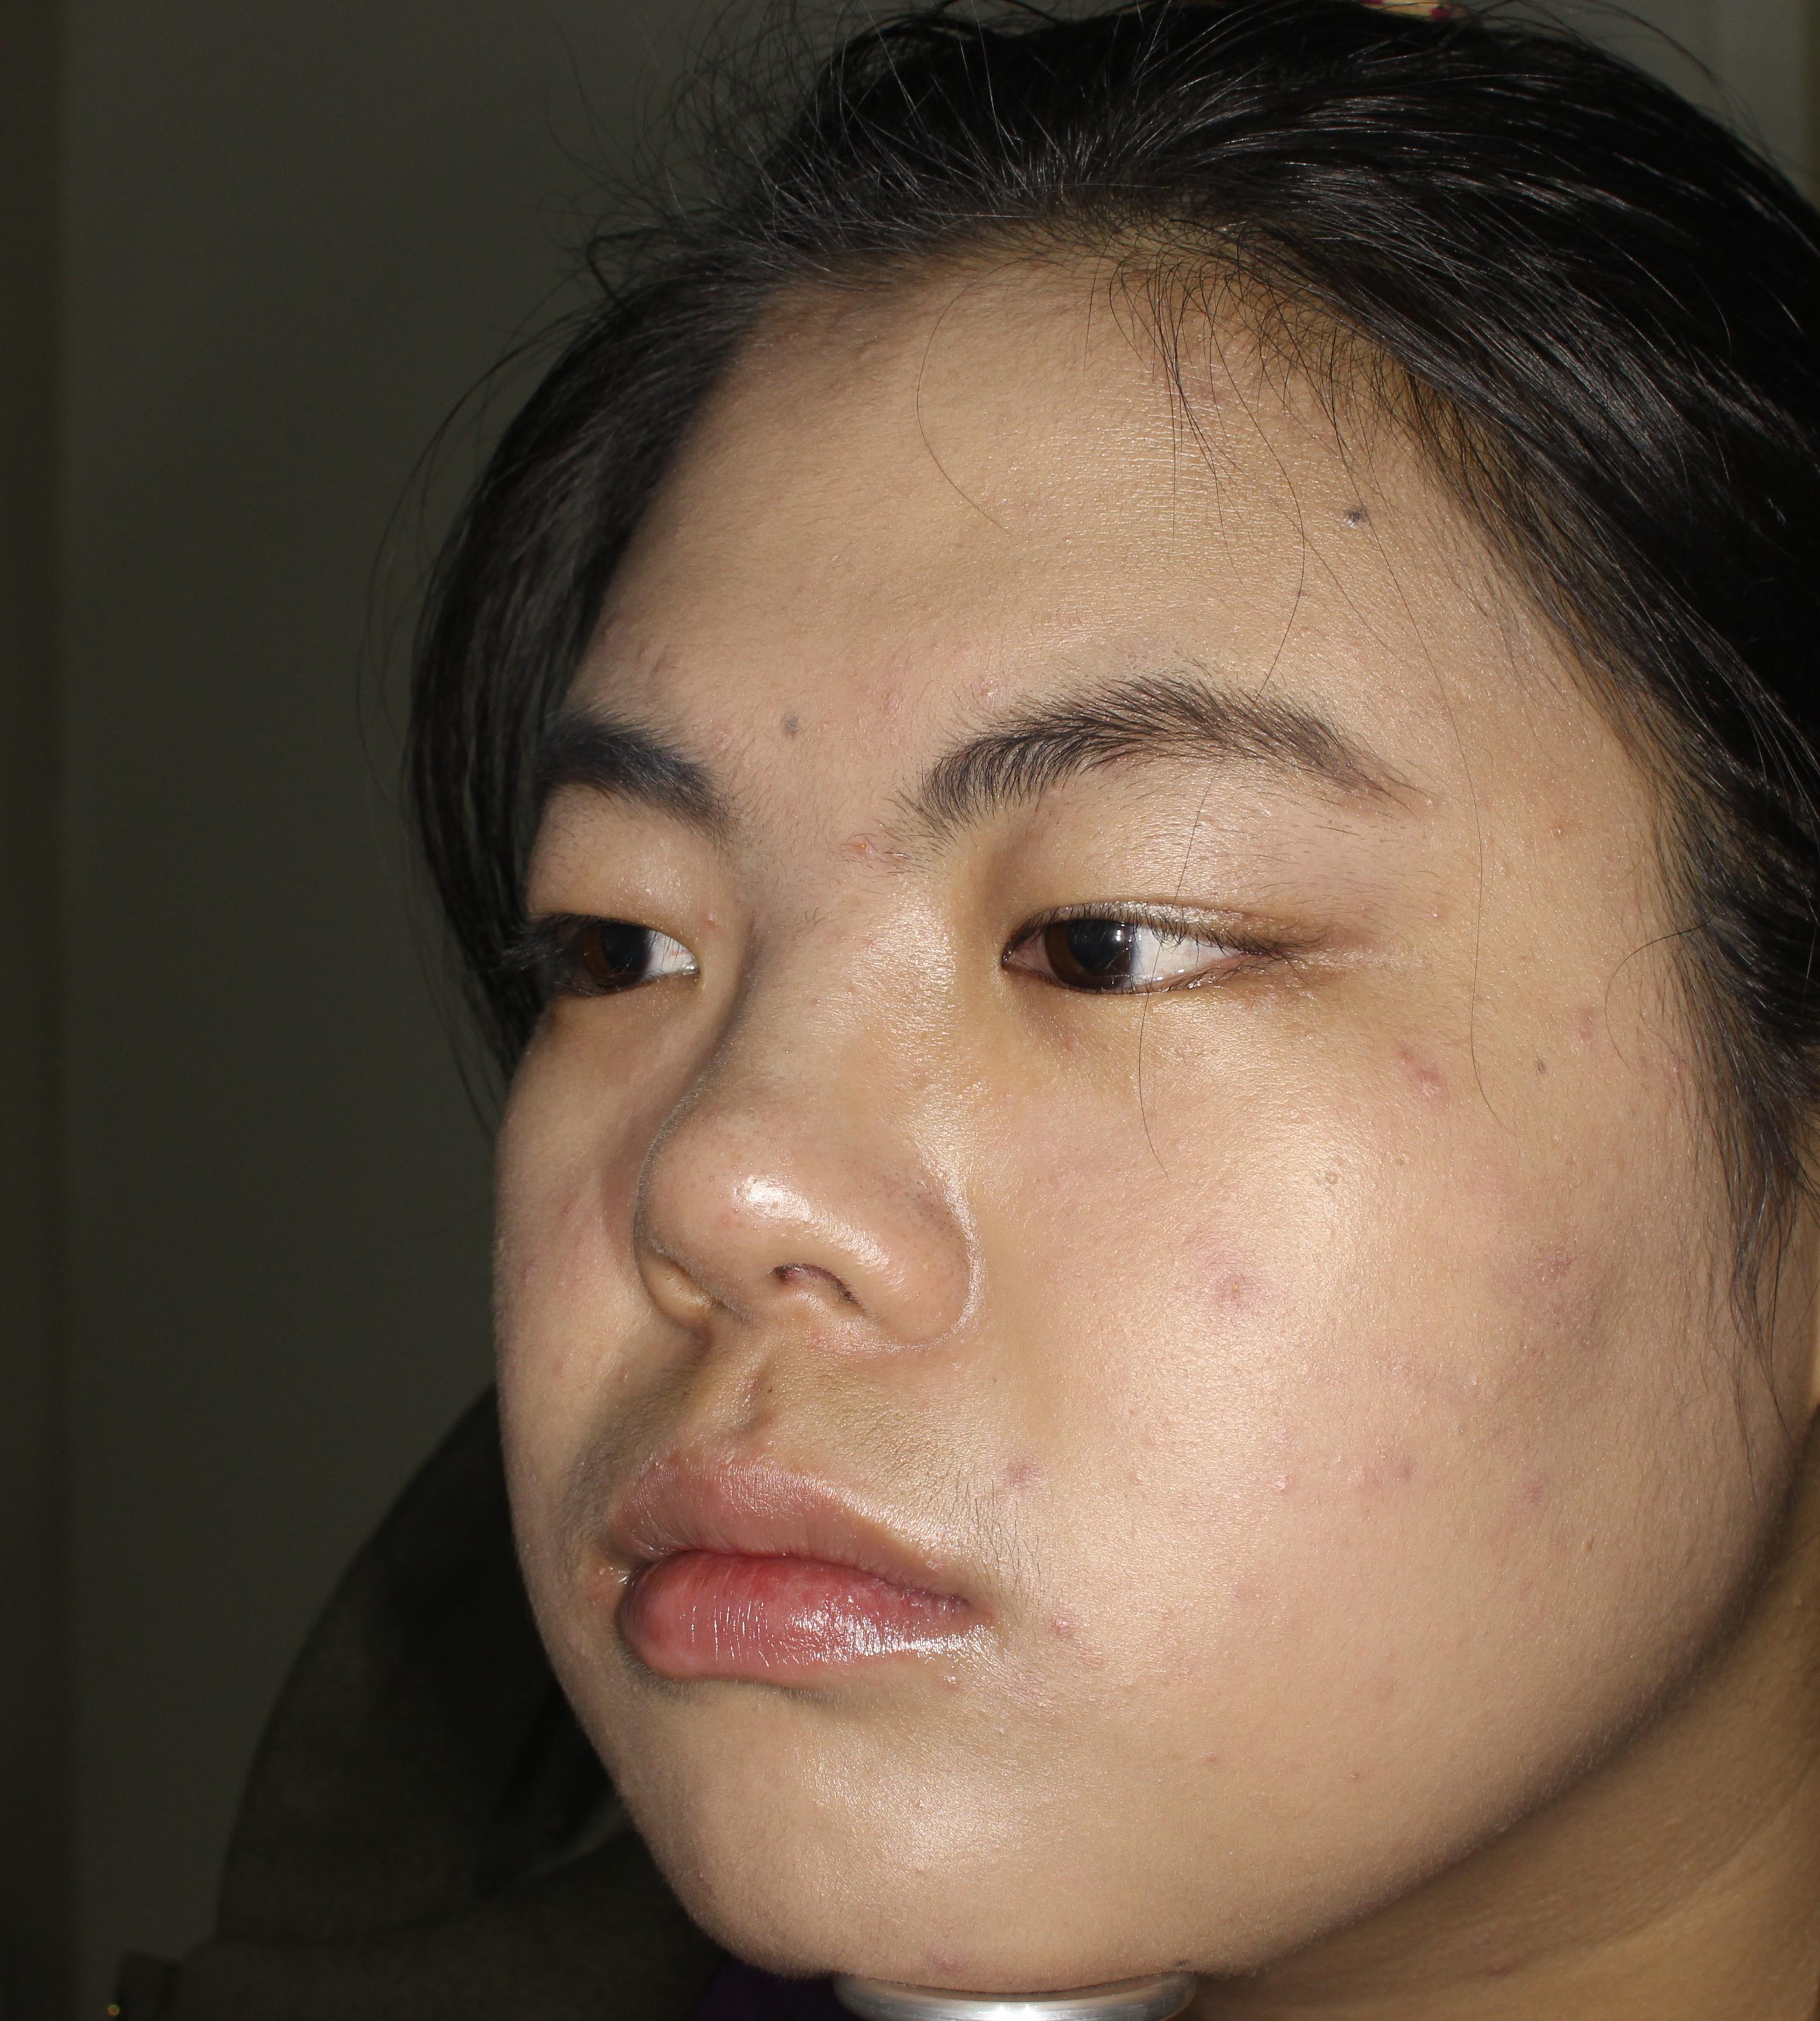fore: (1502, 1450, 1592, 1536), (1216, 1254, 1296, 1334), (1539, 1222, 1588, 1312), (1400, 1029, 1444, 1115)
